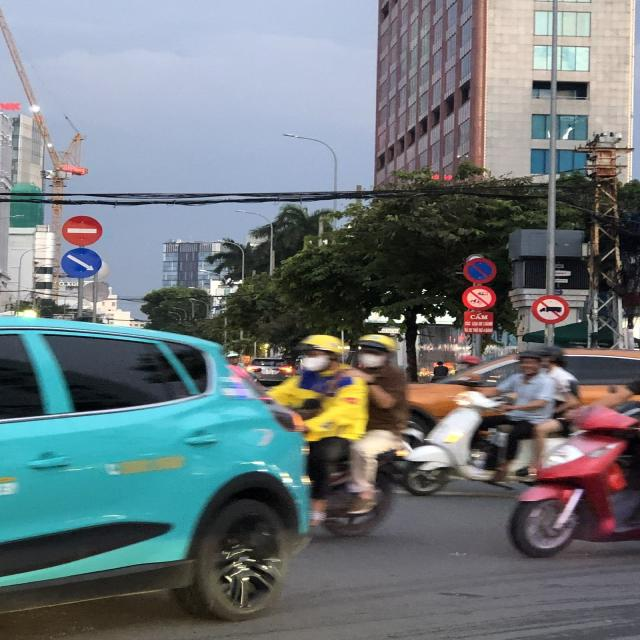Bien bao cam di nguoc chieu: (59, 212, 105, 247)
Bien bao cam do xe: (460, 256, 499, 284)
Bien bao cam xe so-mi ro-mooc: (529, 292, 573, 325)
Bien bao huong phai di vong chuong ngai vat: (60, 245, 104, 280)
